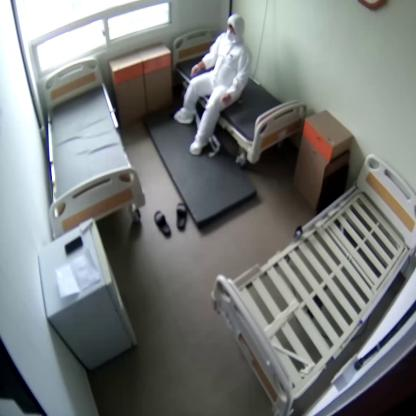Person: (176, 13, 253, 153)
